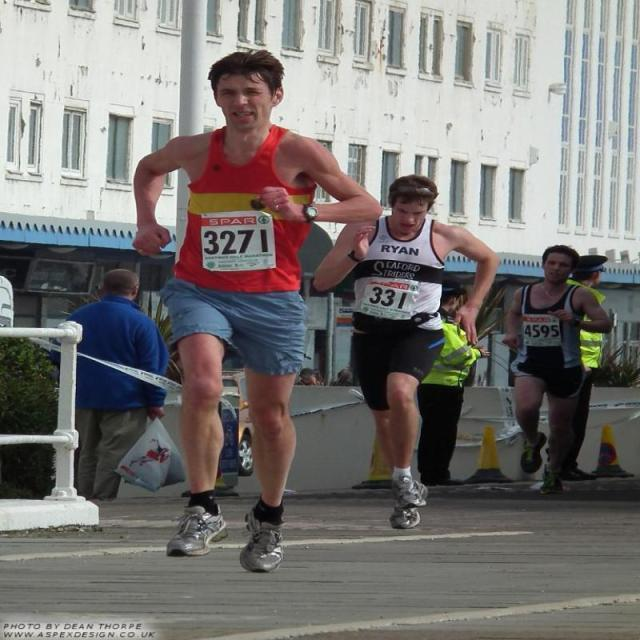dorsal: (186, 204, 286, 280), (361, 275, 424, 329), (518, 312, 570, 351)
